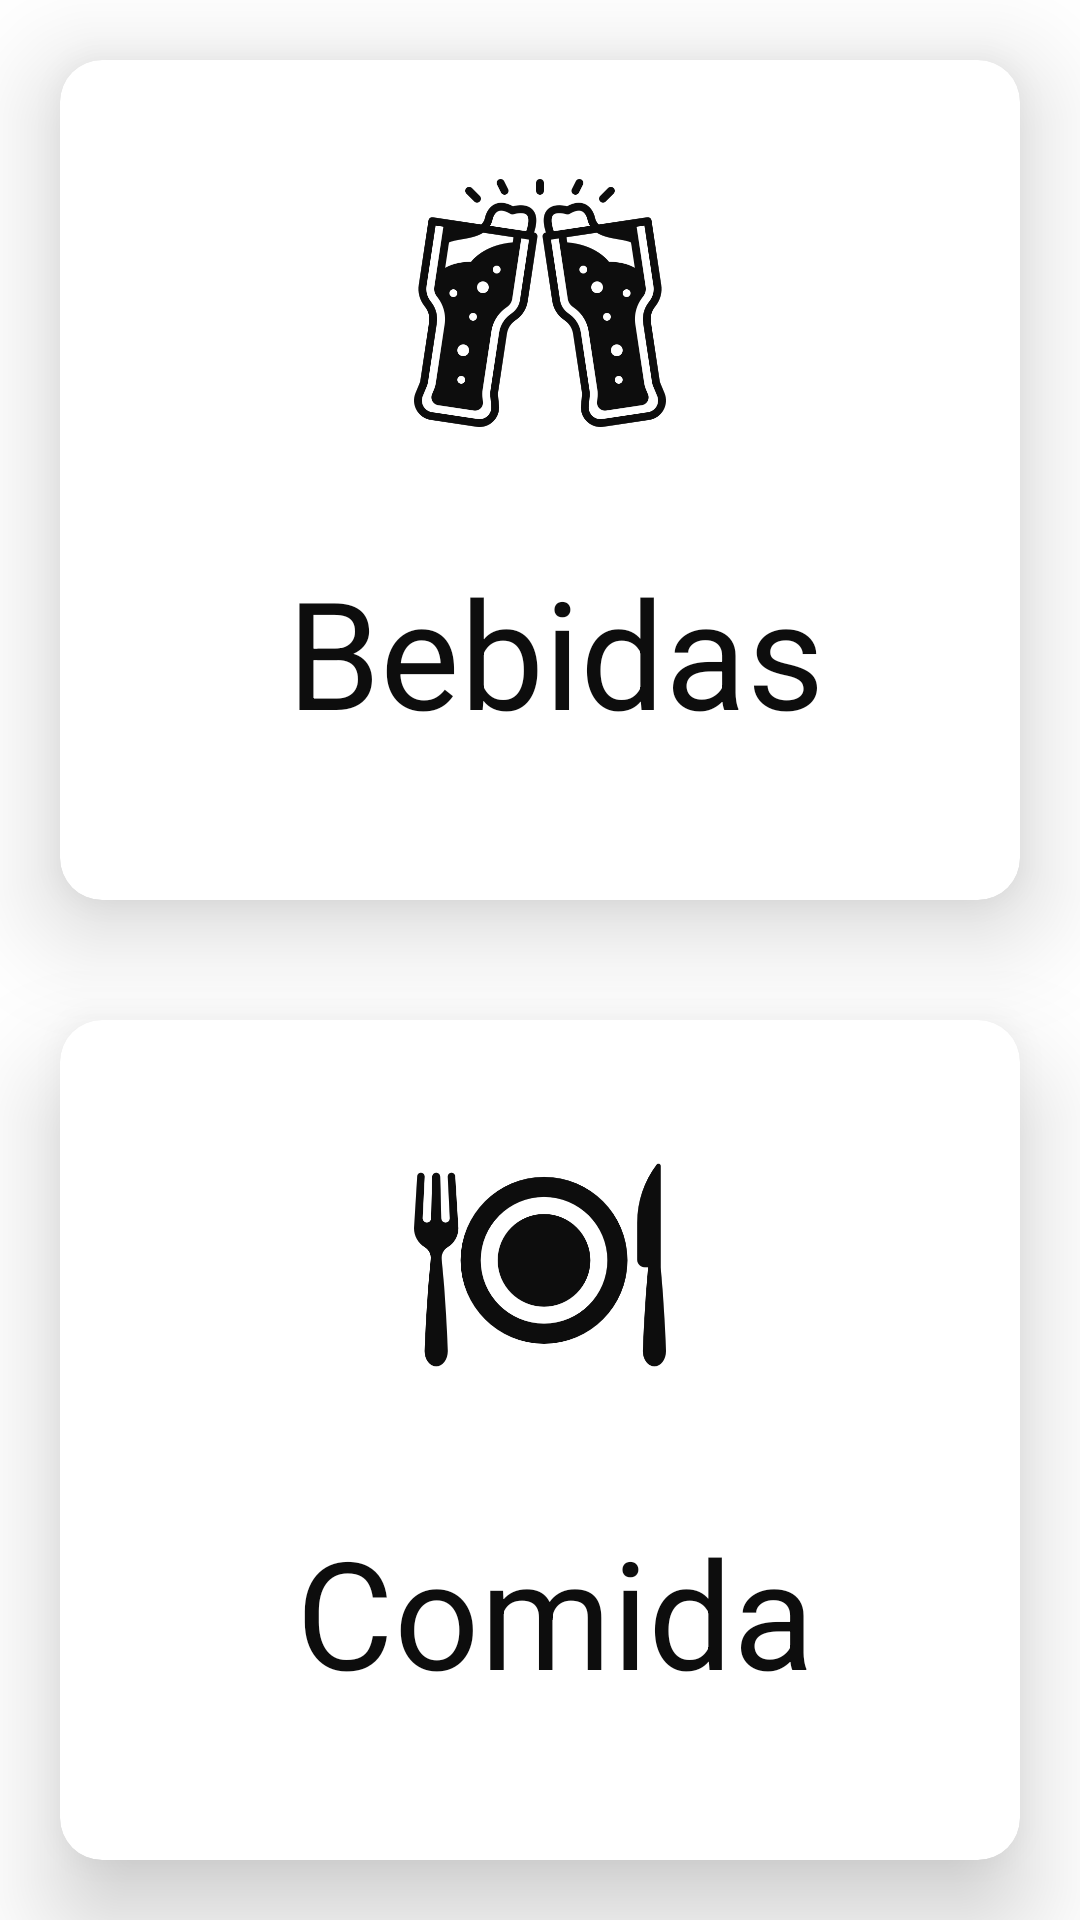

Locate icon controls on the screen. Image size 1080 × 1920, boxes as region(x1, y1, x2, y2).
beers: region(414, 179, 666, 427)
dinner: region(414, 1163, 666, 1367)
